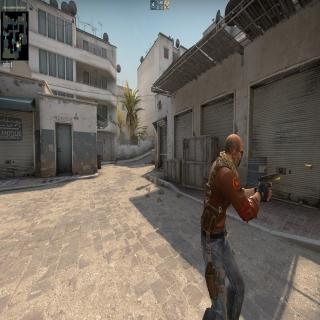T-Head: (222, 130, 244, 177)
